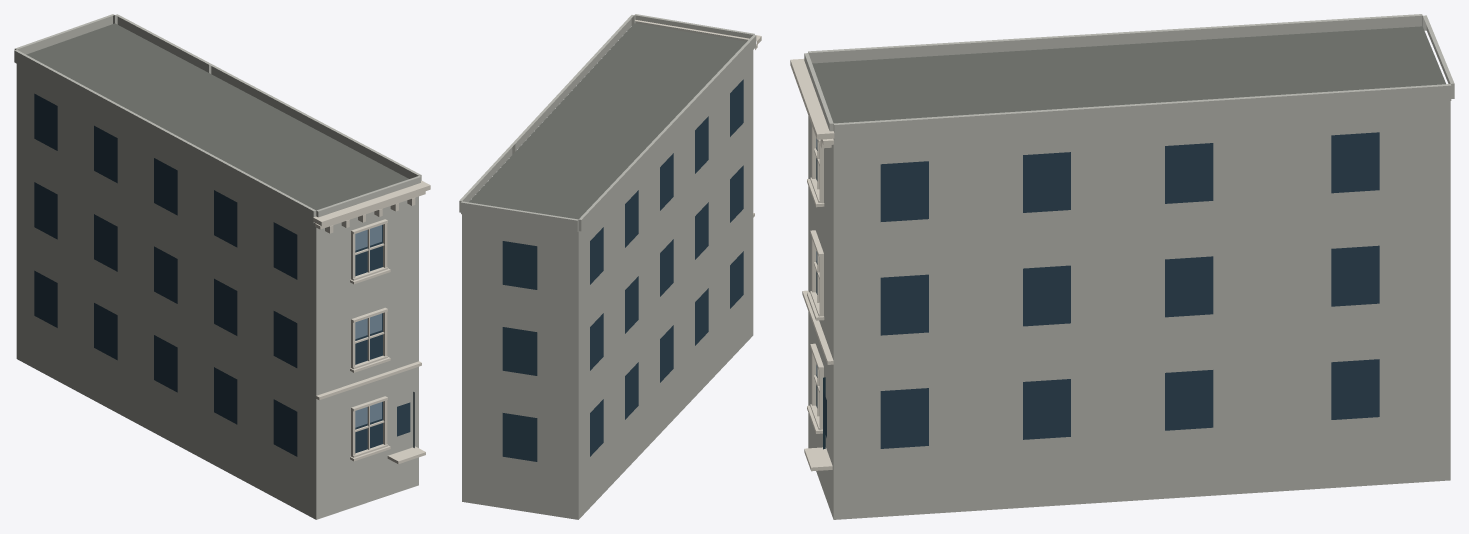
3 views of the same model, side by side, from view 1: azimuth 30°, elevation 25°; view 2: azimuth 150°, elevation 25°; view 3: azimuth 270°, elevation 25° (orthographic). The views are drawn at different scales.
Parts seen in each view (by area): view 1: Footprint 0 / surface 2, Footprint 0 / surface 1, Inset glazing, Facade bay volumes, Cornices and window frames, Sky reflection panels; view 2: Footprint 0 / surface 2, Footprint 0 / surface 1, Inset glazing, Facade bay volumes; view 3: Footprint 0 / surface 2, Footprint 0 / surface 1, Inset glazing, Facade bay volumes, Cornices and window frames.
Part boxes in pixels (<box>): Footprint 0 / surface 2: <box>16,64,418,519</box>; Footprint 0 / surface 1: <box>26,23,408,210</box>; Inset glazing: <box>34,93,410,456</box>; Facade bay volumes: <box>14,14,421,222</box>; Cornices and window frames: <box>313,181,430,464</box>; Sky reflection panels: <box>355,225,381,427</box>; Footprint 0 / surface 2: <box>462,50,753,519</box>; Footprint 0 / surface 1: <box>469,23,746,219</box>; Inset glazing: <box>502,79,743,461</box>; Facade bay volumes: <box>459,14,756,232</box>; Footprint 0 / surface 2: <box>808,101,1450,519</box>; Footprint 0 / surface 1: <box>812,26,1445,123</box>; Inset glazing: <box>816,132,1379,448</box>; Facade bay volumes: <box>804,14,1454,140</box>; Cornices and window frames: <box>790,58,834,471</box>.
Bounding box in the file's own units: 7.93 × 13.01 × 19.74.
